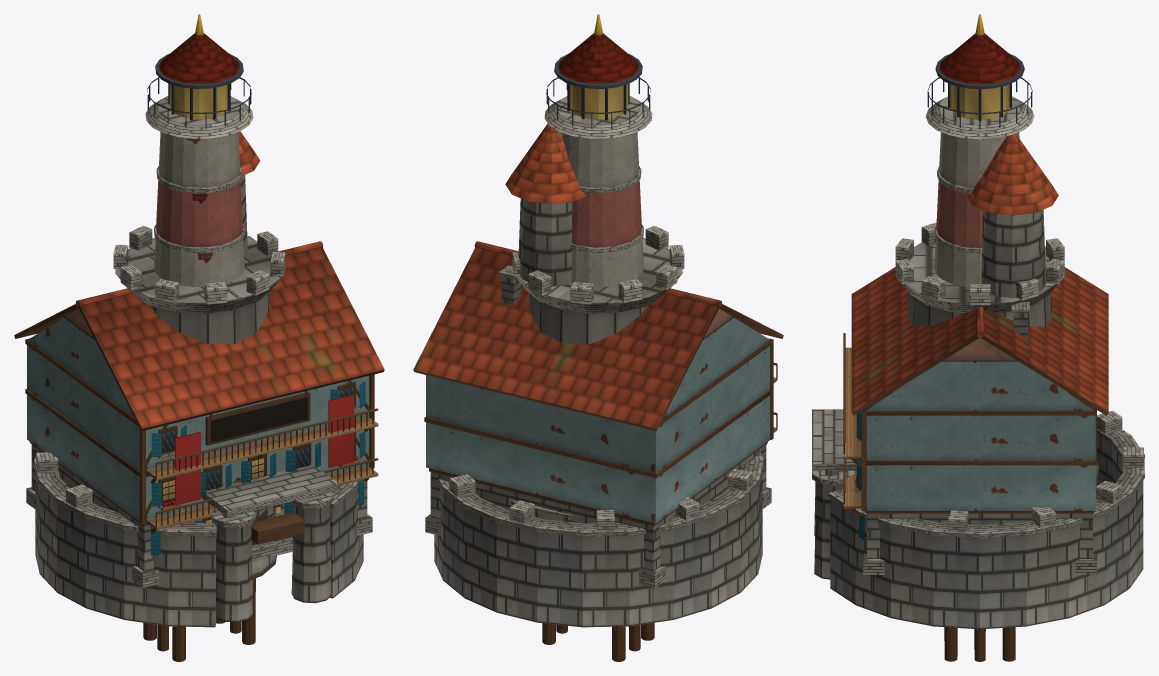
File: town_kit.webp.glb
3 renders of one model, left to right at view 1: azimuth 30°, elevation 25°; view 2: azimuth 150°, elevation 25°; view 3: azimuth 270°, elevation 25°, orthographic.
Parts seen in each view (by area): view 1: squadhall_LOD0, fort_LOD0, lighthouse_LOD0, pierHead_LOD0; view 2: squadhall_LOD0, fort_LOD0, lighthouse_LOD0, pierHead_LOD0; view 3: squadhall_LOD0, fort_LOD0, lighthouse_LOD0, pierHead_LOD0.
Part boxes in pixels (bbox=[...]): squadhall_LOD0: bbox=[14, 236, 384, 587]; fort_LOD0: bbox=[33, 131, 363, 627]; lighthouse_LOD0: bbox=[145, 14, 284, 517]; pierHead_LOD0: bbox=[143, 578, 255, 661]; squadhall_LOD0: bbox=[413, 241, 783, 587]; fort_LOD0: bbox=[434, 123, 764, 627]; lighthouse_LOD0: bbox=[509, 14, 652, 521]; pierHead_LOD0: bbox=[542, 623, 654, 661]; squadhall_LOD0: bbox=[812, 267, 1108, 574]; fort_LOD0: bbox=[812, 133, 1144, 629]; lighthouse_LOD0: bbox=[925, 14, 1099, 481]; pierHead_LOD0: bbox=[944, 627, 1015, 661].
Size of what is drawn, in the model's own units: 20.62 by 42.9 by 20.62.
Materials: 1 (1 with a texture image).
